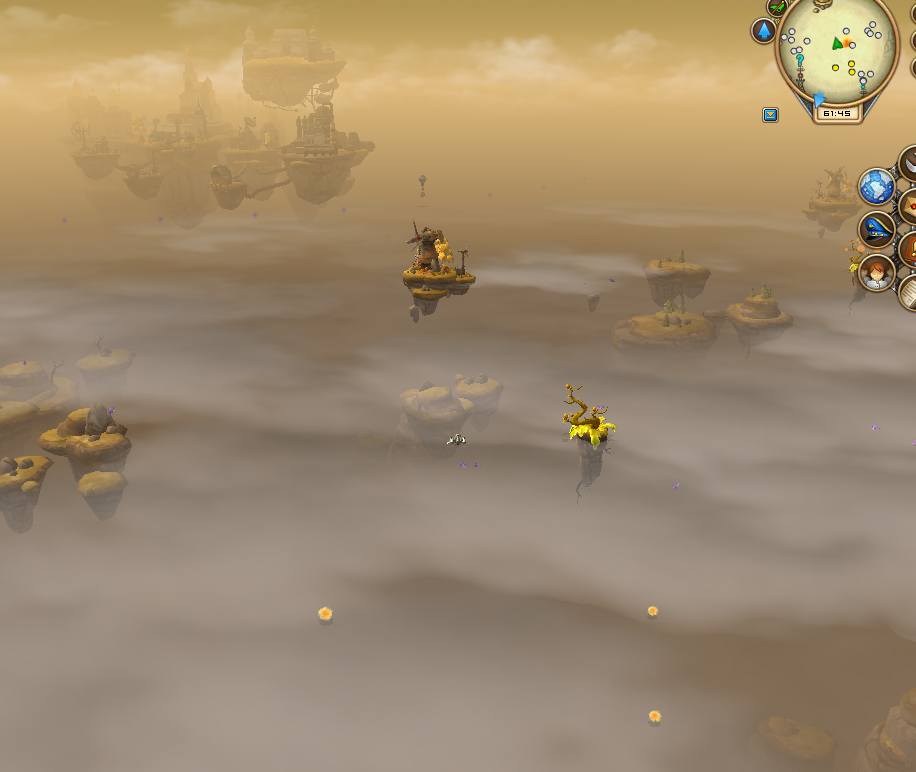dandelion-empty: (558, 374, 618, 488)
dandelion-full: (838, 228, 871, 303)
fluff: (309, 601, 339, 628), (638, 599, 664, 626), (644, 703, 666, 731)
